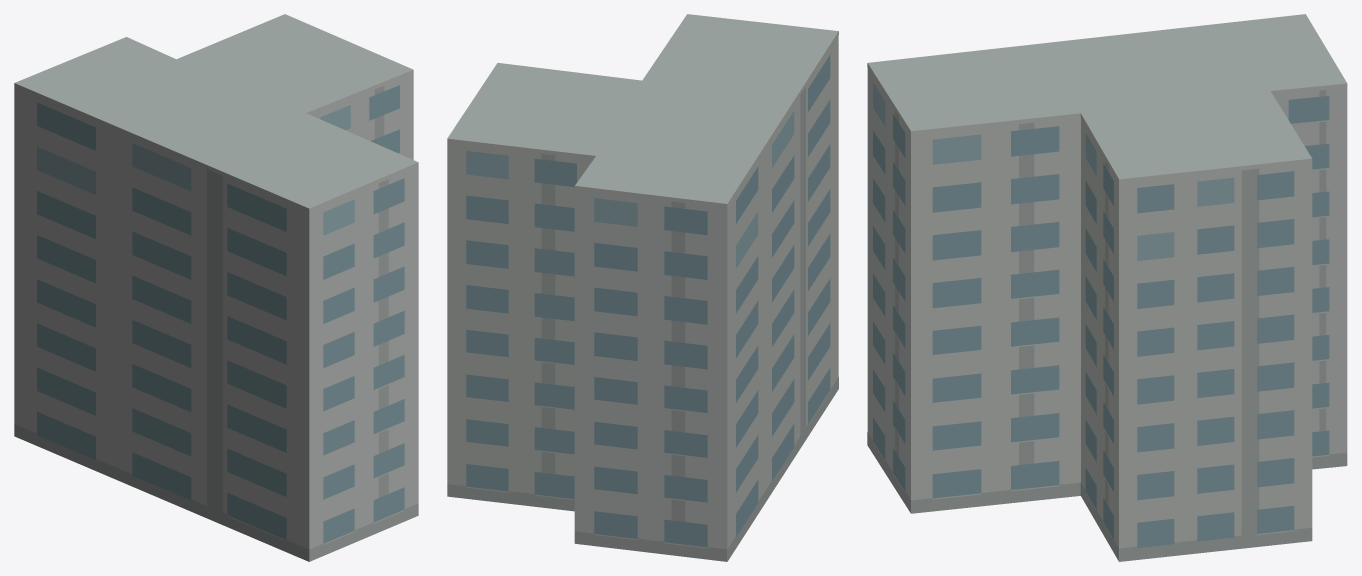
Rendered from survey-upis-32962753.glb.
3 views of the same model, side by side, from view 1: azimuth 30°, elevation 25°; view 2: azimuth 150°, elevation 25°; view 3: azimuth 270°, elevation 25° (orthographic). The views are drawn at different scales.
Visible parts, largest first — view 1: survey-upis-32962753.tmp; view 2: survey-upis-32962753.tmp; view 3: survey-upis-32962753.tmp.
Boxes of the visible parts, box(x1,y1,x2,y2) form: survey-upis-32962753.tmp: box(14, 14, 418, 561); survey-upis-32962753.tmp: box(447, 14, 838, 561); survey-upis-32962753.tmp: box(867, 14, 1347, 561).
Size of the model in its own units: 19.67 by 21.2 by 24.12.
